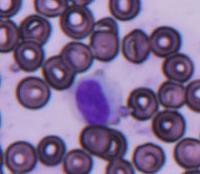L: (71, 74, 121, 126)
